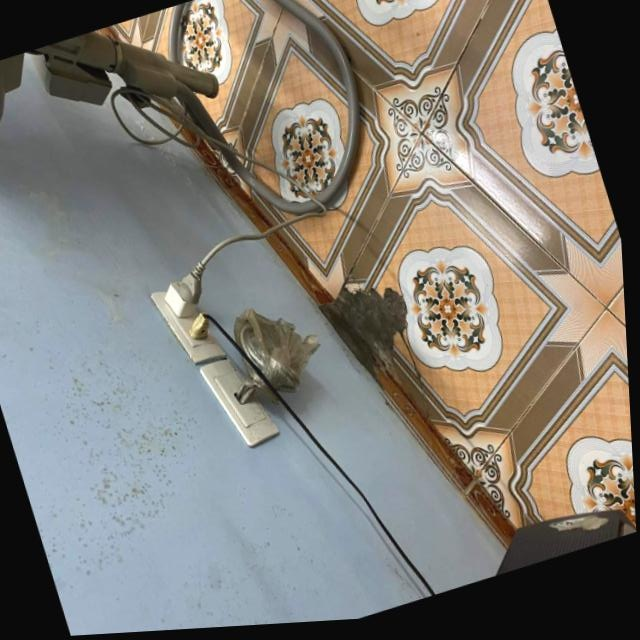outlet: (147, 275, 227, 375)
